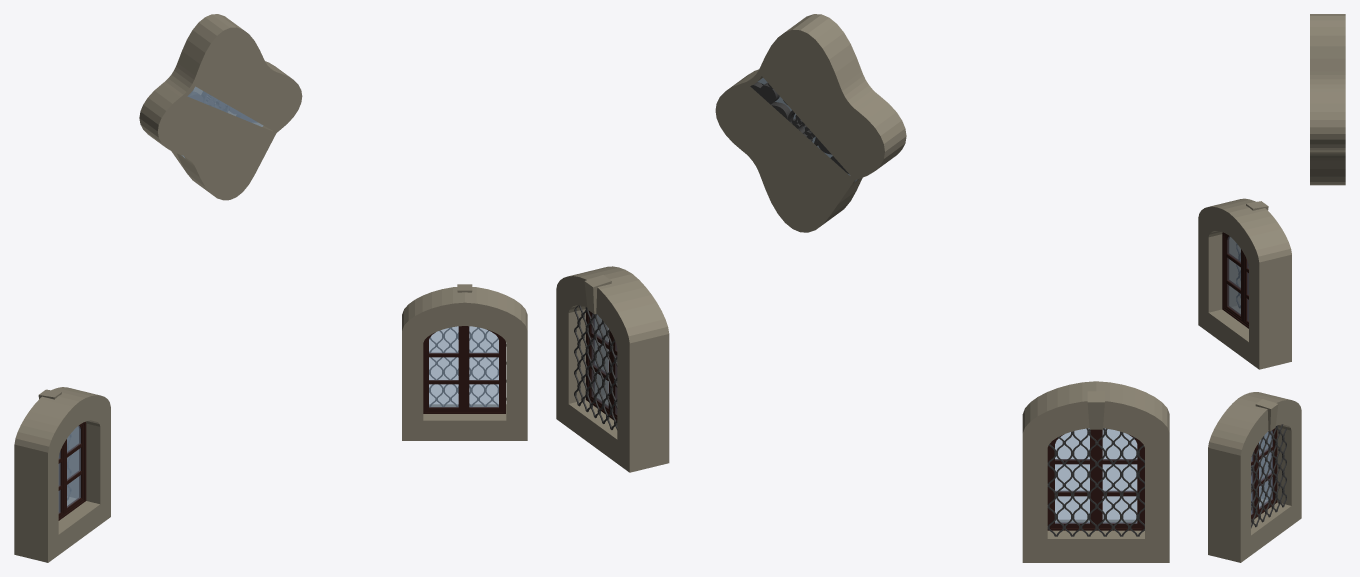
Rendered from Building_Back.fbx.
3 renders of one model, left to right at view 1: azimuth 30°, elevation 25°; view 2: azimuth 150°, elevation 25°; view 3: azimuth 270°, elevation 25°, orthographic. The views are drawn at different scales.
Visible parts, largest first — view 1: window_outline, stone_outline.012, stone_outline.013, glass.030, glass_wooden_frame.025, bar.013, inner_frame.023, glass.029, glass_wooden_frame.024, wooden_outline.023; view 2: window_outline, stone_outline.013, stone_outline.012, glass.029, bar.012, bar.013, glass_wooden_frame.024, inner_frame.022, glass.030, glass_wooden_frame.025, wooden_outline.022; view 3: stone_outline.012, stone_outline.013, window_outline, bar.013, glass.029, glass_wooden_frame.024, glass.030, glass_wooden_frame.025, inner_frame.022, stone_top_detail.013, wooden_outline.022, inner_frame.023.
Boxes of the visible parts, bbox=[...] form: window_outline: bbox=[139, 14, 302, 200]; stone_outline.012: bbox=[14, 387, 110, 562]; stone_outline.013: bbox=[402, 287, 527, 440]; glass.030: bbox=[429, 326, 498, 407]; glass_wooden_frame.025: bbox=[427, 326, 500, 409]; bar.013: bbox=[429, 327, 506, 406]; inner_frame.023: bbox=[425, 326, 502, 411]; glass.029: bbox=[58, 426, 80, 513]; glass_wooden_frame.024: bbox=[58, 424, 82, 515]; wooden_outline.023: bbox=[423, 338, 505, 413]; window_outline: bbox=[715, 14, 906, 232]; stone_outline.013: bbox=[556, 266, 669, 472]; stone_outline.012: bbox=[1022, 381, 1169, 562]; glass.029: bbox=[1055, 428, 1137, 523]; bar.012: bbox=[1047, 428, 1144, 536]; bar.013: bbox=[574, 305, 617, 429]; glass_wooden_frame.024: bbox=[1053, 429, 1138, 525]; inner_frame.022: bbox=[1051, 429, 1141, 528]; glass.030: bbox=[592, 314, 616, 414]; glass_wooden_frame.025: bbox=[590, 312, 617, 416]; wooden_outline.022: bbox=[1047, 443, 1144, 530]; stone_outline.012: bbox=[1198, 198, 1291, 369]; stone_outline.013: bbox=[1208, 392, 1301, 562]; window_outline: bbox=[1310, 14, 1345, 185]; bar.013: bbox=[1251, 424, 1286, 528]; glass.029: bbox=[1227, 236, 1248, 321]; glass_wooden_frame.024: bbox=[1225, 234, 1248, 323]; glass.030: bbox=[1251, 431, 1272, 514]; glass_wooden_frame.025: bbox=[1251, 429, 1274, 516]; inner_frame.022: bbox=[1224, 233, 1248, 326]; stone_top_detail.013: bbox=[1255, 399, 1278, 431]; wooden_outline.022: bbox=[1222, 232, 1248, 328]; inner_frame.023: bbox=[1251, 428, 1275, 518].
Size of the model in its own units: 751 by 603 by 190.
